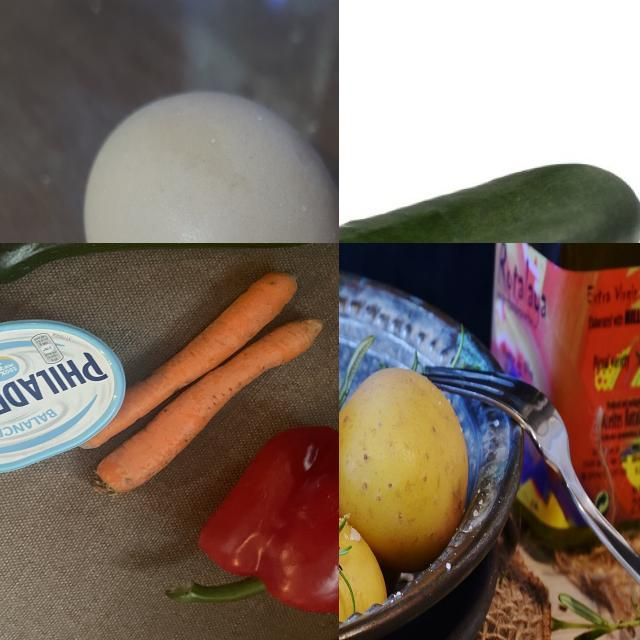bell_pepper: (215, 417, 340, 633)
carrot: (85, 265, 331, 481)
cucumber: (340, 155, 640, 244)
egg: (77, 83, 340, 244)
potato: (340, 366, 472, 571), (340, 509, 391, 640)
zucchini: (1, 244, 340, 299)
